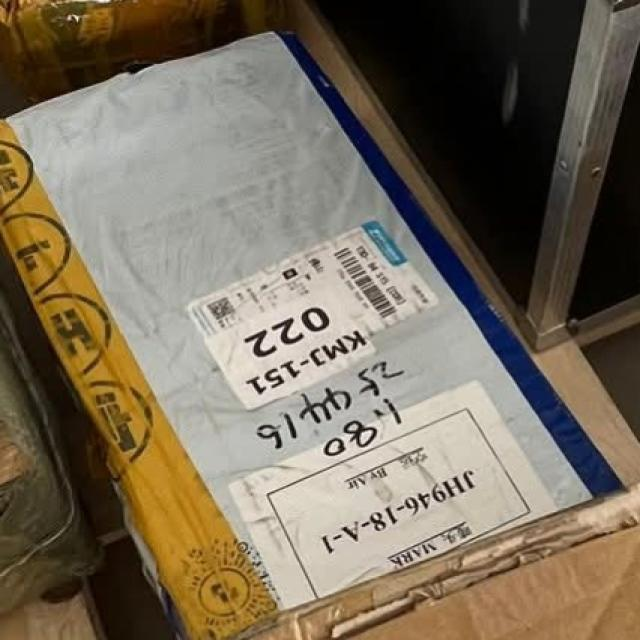carton_box: (0, 12, 499, 632)
export_mark_label: (205, 428, 612, 593)
